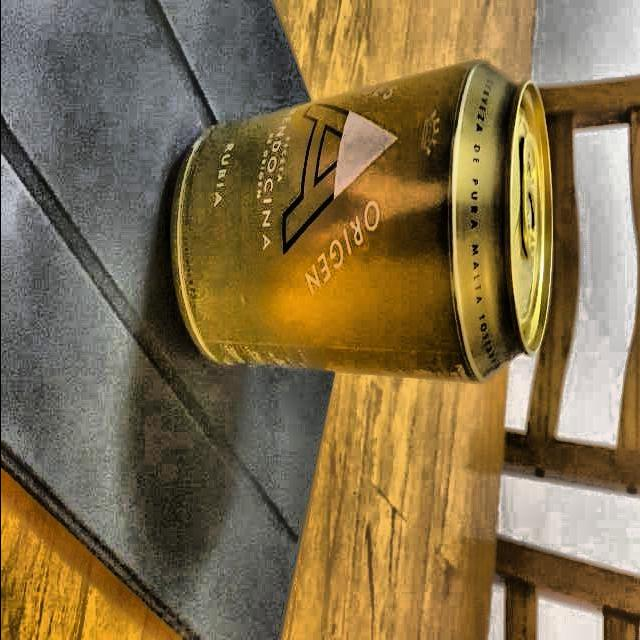Aluminum Can: (163, 54, 561, 381)
